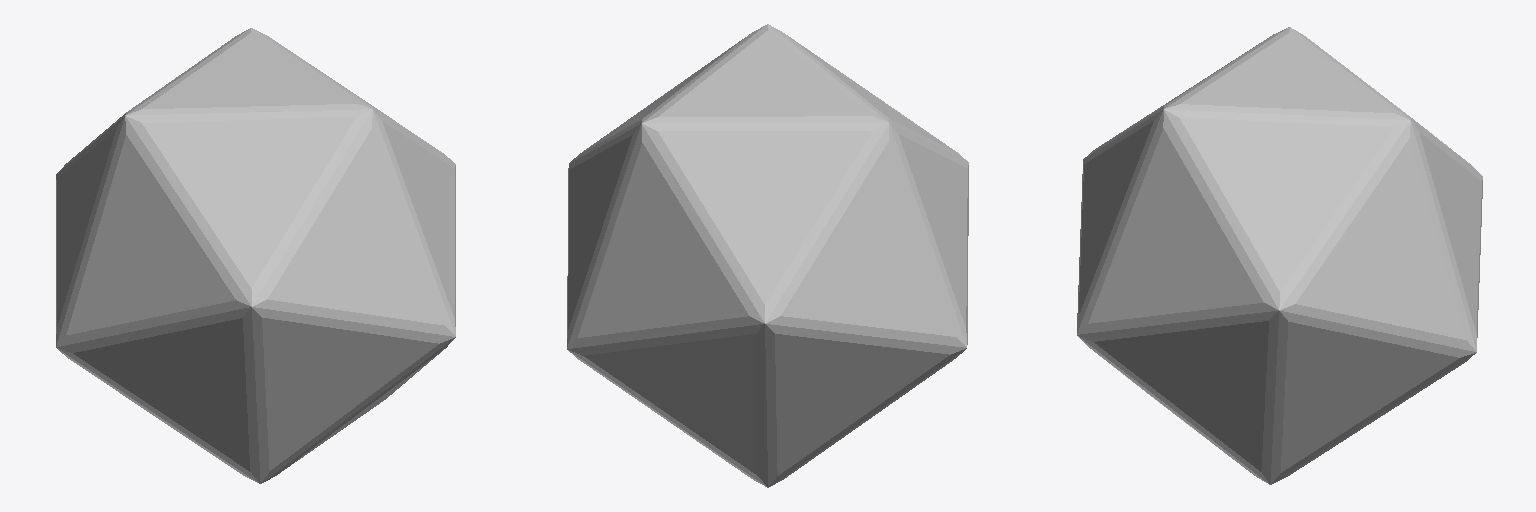
The model's file is primitive_die_twenty_sides.obj.
3 views of the same model, side by side, from view 1: azimuth 30°, elevation 25°; view 2: azimuth 150°, elevation 25°; view 3: azimuth 270°, elevation 25° (orthographic).
Parts seen in each view (by area): view 1: primitive_die_twenty_sides group1; view 2: primitive_die_twenty_sides group1; view 3: primitive_die_twenty_sides group1.
Boxes of the visible parts, box(x1,y1,x2,y2) form: primitive_die_twenty_sides group1: box(56, 28, 455, 483); primitive_die_twenty_sides group1: box(567, 24, 968, 487); primitive_die_twenty_sides group1: box(1077, 27, 1482, 484).
Bounding box in the file's own units: 2.94 × 2.48 × 2.59.